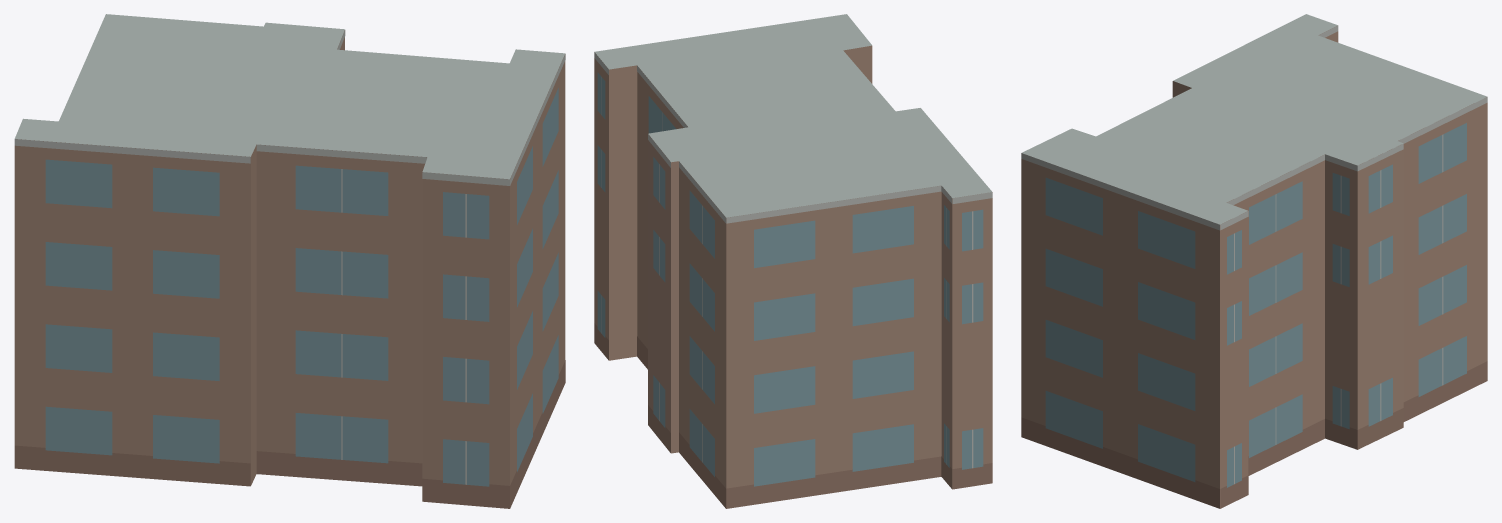
File: survey-upis-32699216.glb
The picture shows the model from 3 angles, left to right: view 1: azimuth 30°, elevation 25°; view 2: azimuth 150°, elevation 25°; view 3: azimuth 270°, elevation 25°; orthographic projection. The views are drawn at different scales.
Visible parts, largest first — view 1: survey-upis-32699216.tmp; view 2: survey-upis-32699216.tmp; view 3: survey-upis-32699216.tmp.
Boxes of the visible parts, bbox=[...] form: survey-upis-32699216.tmp: bbox=[14, 14, 565, 508]; survey-upis-32699216.tmp: bbox=[594, 14, 992, 508]; survey-upis-32699216.tmp: bbox=[1021, 14, 1487, 508].
Bounding box in the file's own units: 18.85 × 11.85 × 17.63.
